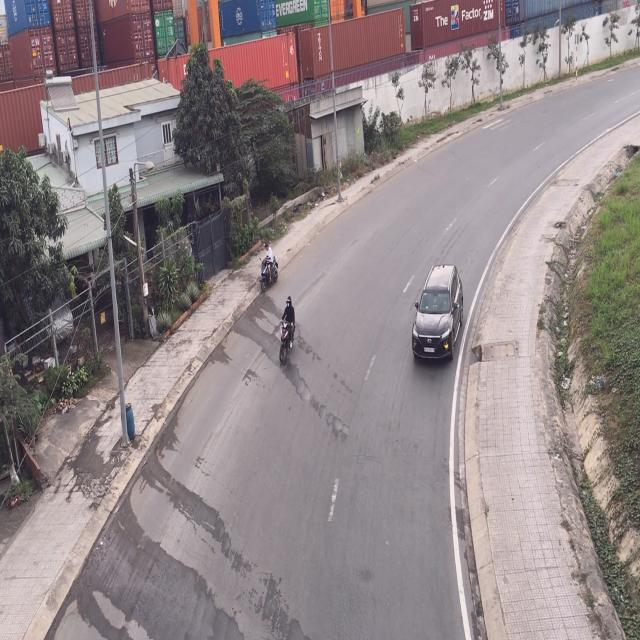car: (409, 262, 462, 362)
motorbike: (276, 295, 298, 365), (261, 247, 281, 296)
